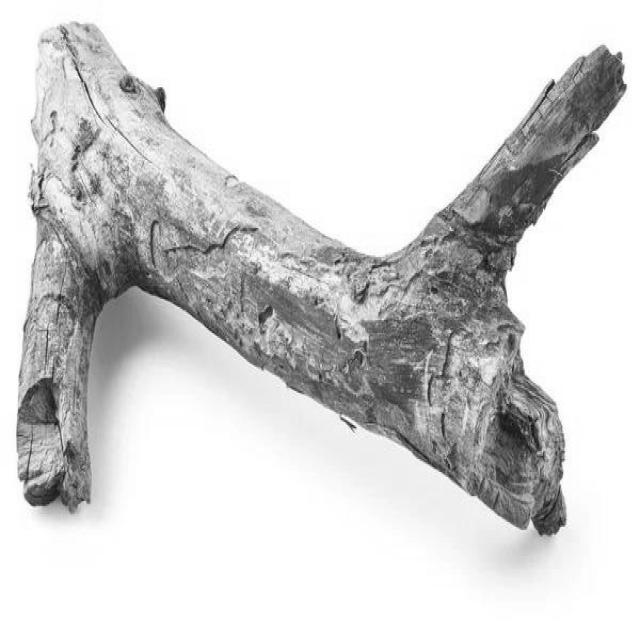Tree: (16, 24, 626, 535)
